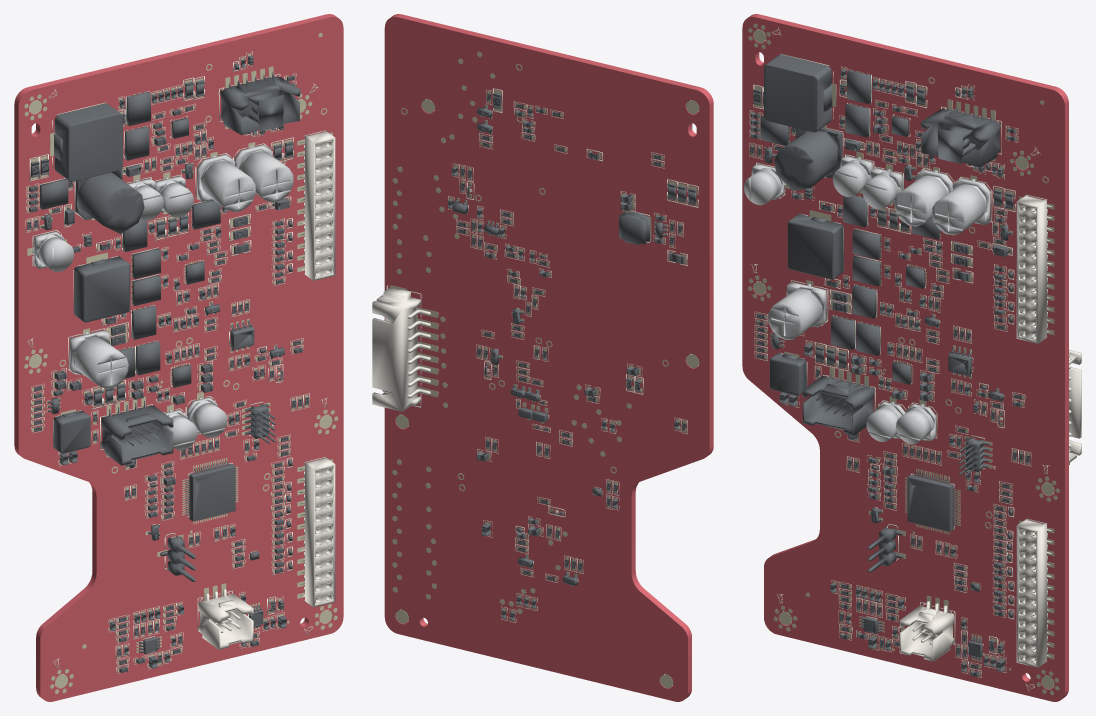
Rendered from pcb-main.glb.
The picture shows the model from 3 angles, left to right: view 1: azimuth 30°, elevation 25°; view 2: azimuth 150°, elevation 25°; view 3: azimuth 330°, elevation 25°; orthographic projection.
Parts seen in each view (by area): view 1: pcb, body, metal, pads, plastic, silk; view 2: pcb, body, pads, plastic, silk; view 3: pcb, body, metal, plastic, pads, silk.
Part boxes in pixels (left/top/right/bottom): pcb: left=14, top=14, right=343, bottom=701; body: left=27, top=56, right=308, bottom=672; metal: left=32, top=145, right=293, bottom=450; pads: left=24, top=33, right=338, bottom=693; plastic: left=198, top=131, right=335, bottom=649; silk: left=25, top=51, right=328, bottom=673; pcb: left=384, top=14, right=713, bottom=701; body: left=447, top=93, right=696, bottom=620; pads: left=390, top=51, right=699, bottom=688; plastic: left=372, top=287, right=430, bottom=411; silk: left=386, top=88, right=698, bottom=622; pcb: left=742, top=14, right=1068, bottom=701; body: left=750, top=54, right=1029, bottom=676; metal: left=744, top=155, right=990, bottom=443; plastic: left=899, top=195, right=1081, bottom=667; pads: left=748, top=23, right=1059, bottom=695; silk: left=749, top=27, right=1049, bottom=691.
Bounding box in the file's own units: 75 × 136 × 17.88.
